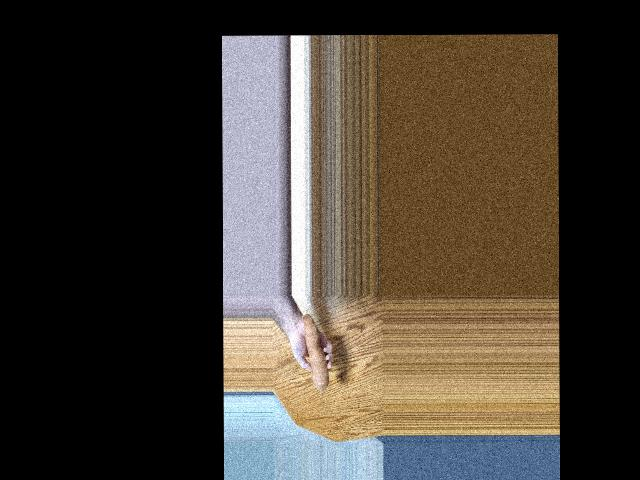sweet_potato: (299, 318, 333, 395)
